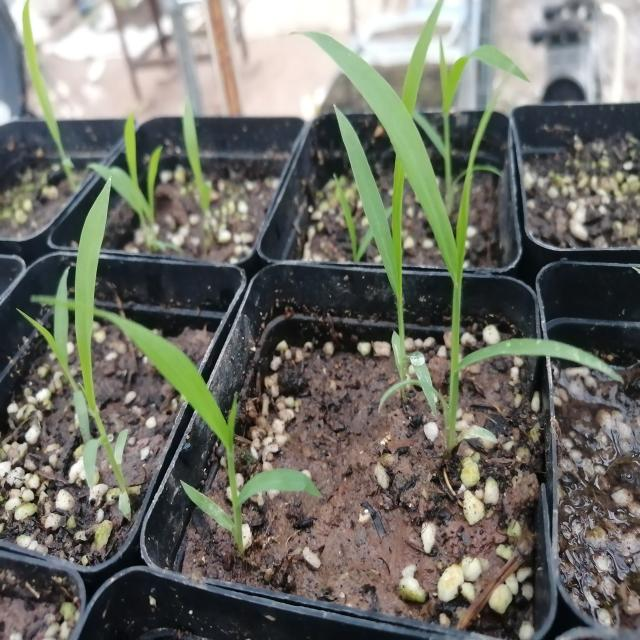crabgrass: (322, 29, 586, 414), (74, 272, 309, 533), (23, 161, 161, 522)
